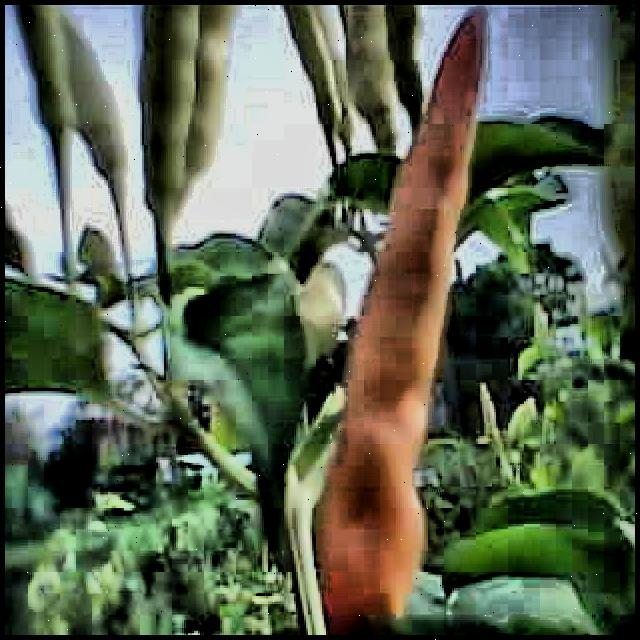Cabai: (332, 9, 475, 598)
